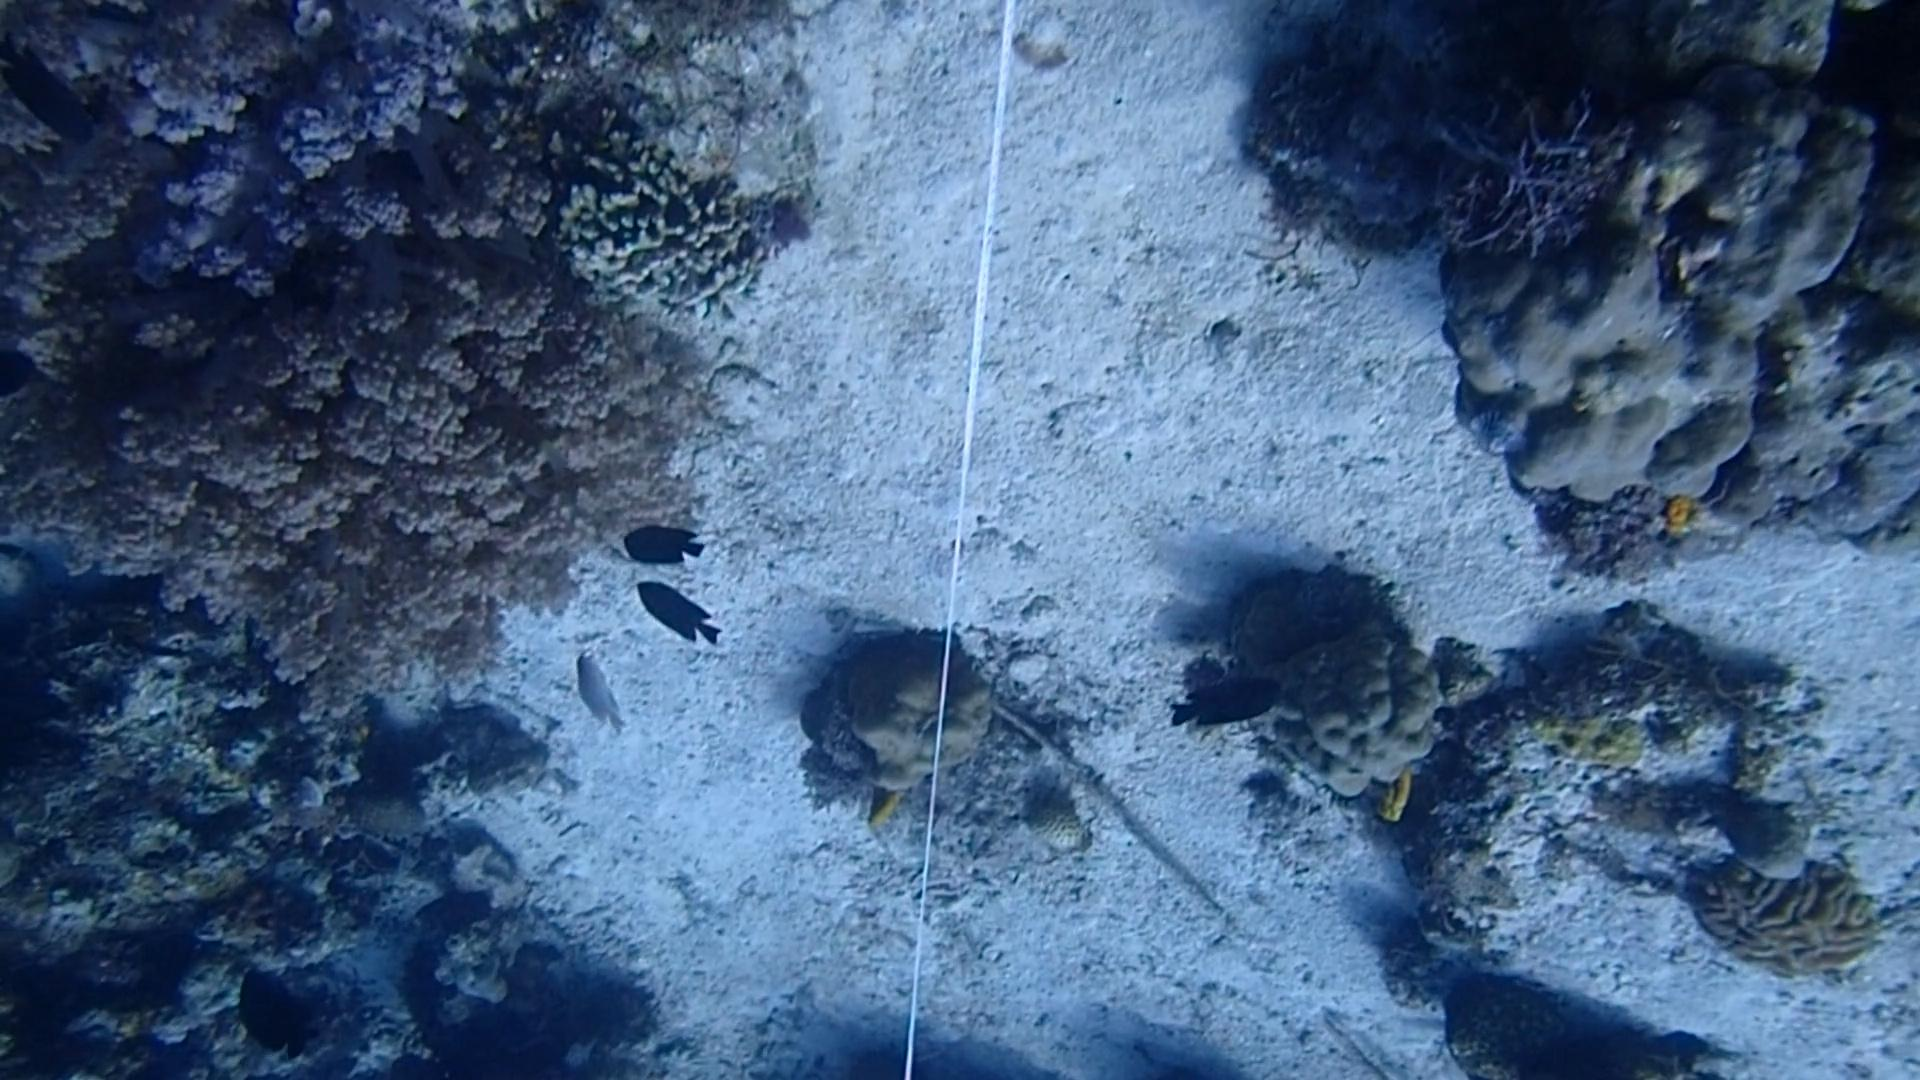Dark Fish: (0, 47, 91, 157), (229, 964, 318, 1069), (1182, 669, 1291, 749), (601, 506, 711, 583), (629, 566, 729, 647)
Light Fish: (549, 636, 636, 738)
